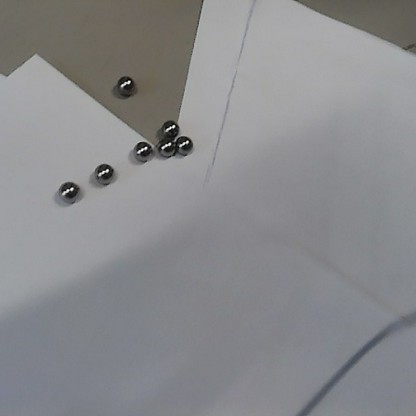ironball: (131, 140, 156, 163), (58, 177, 79, 204), (159, 116, 180, 139), (114, 75, 136, 96), (153, 138, 174, 159), (94, 162, 114, 183), (177, 133, 193, 154)
